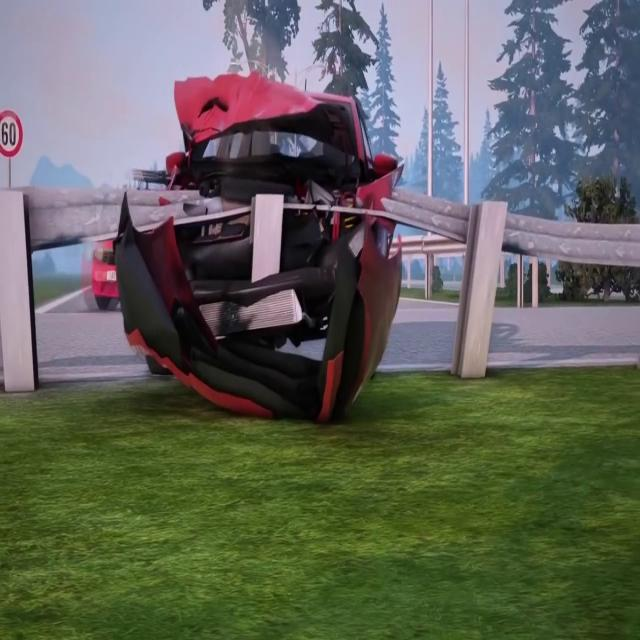accident: (70, 23, 474, 404)
